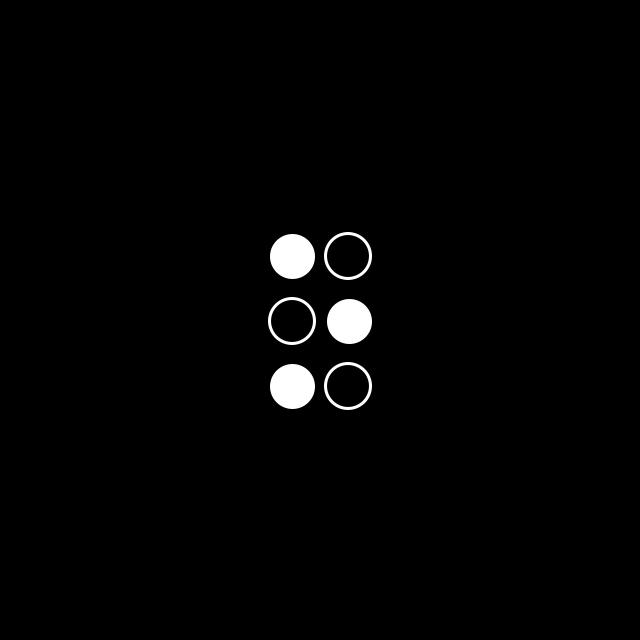O: (270, 232, 371, 412)
